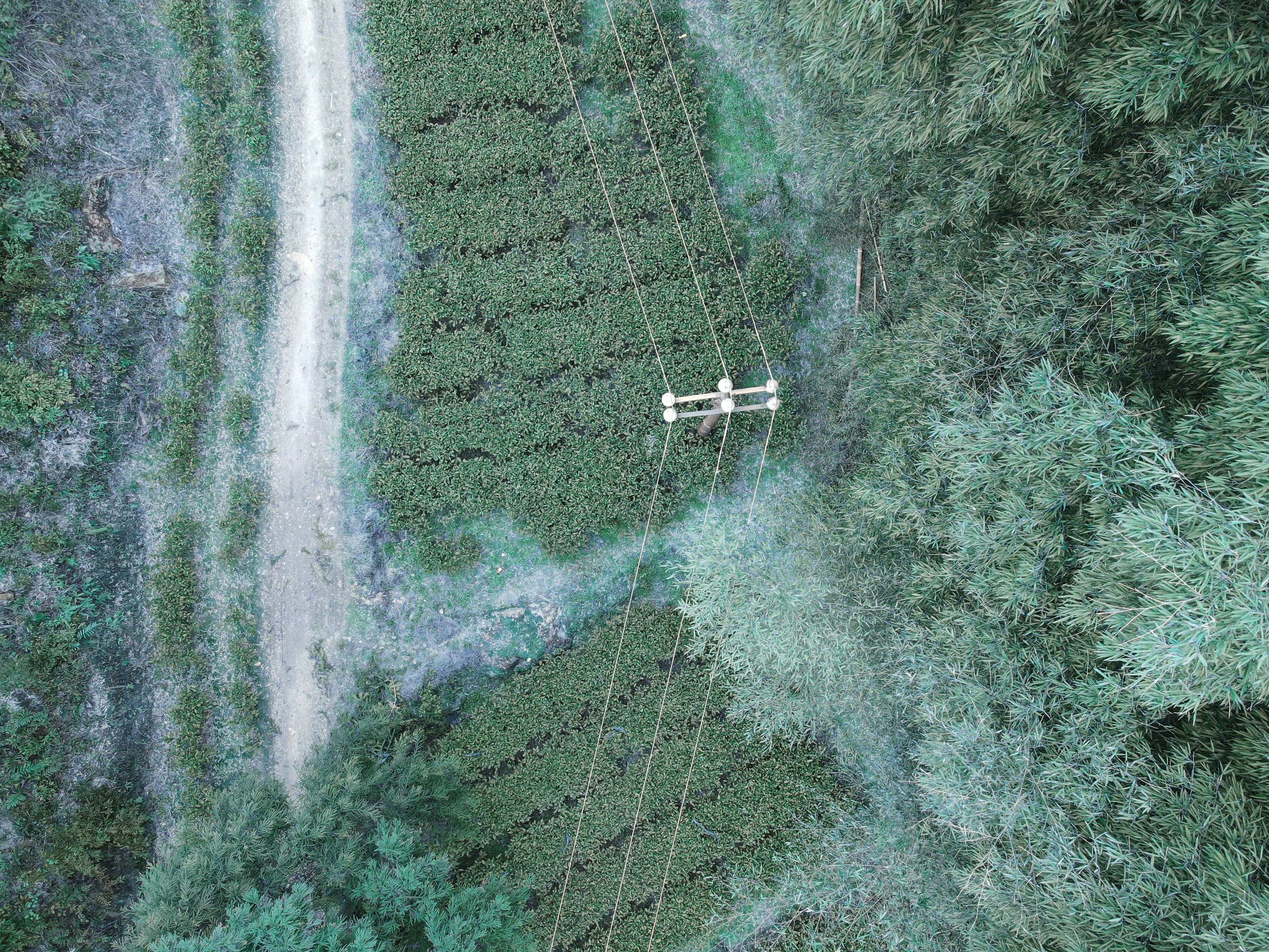severe_soiling_no_discharge_whole: (763, 379, 779, 394), (766, 396, 782, 411)
